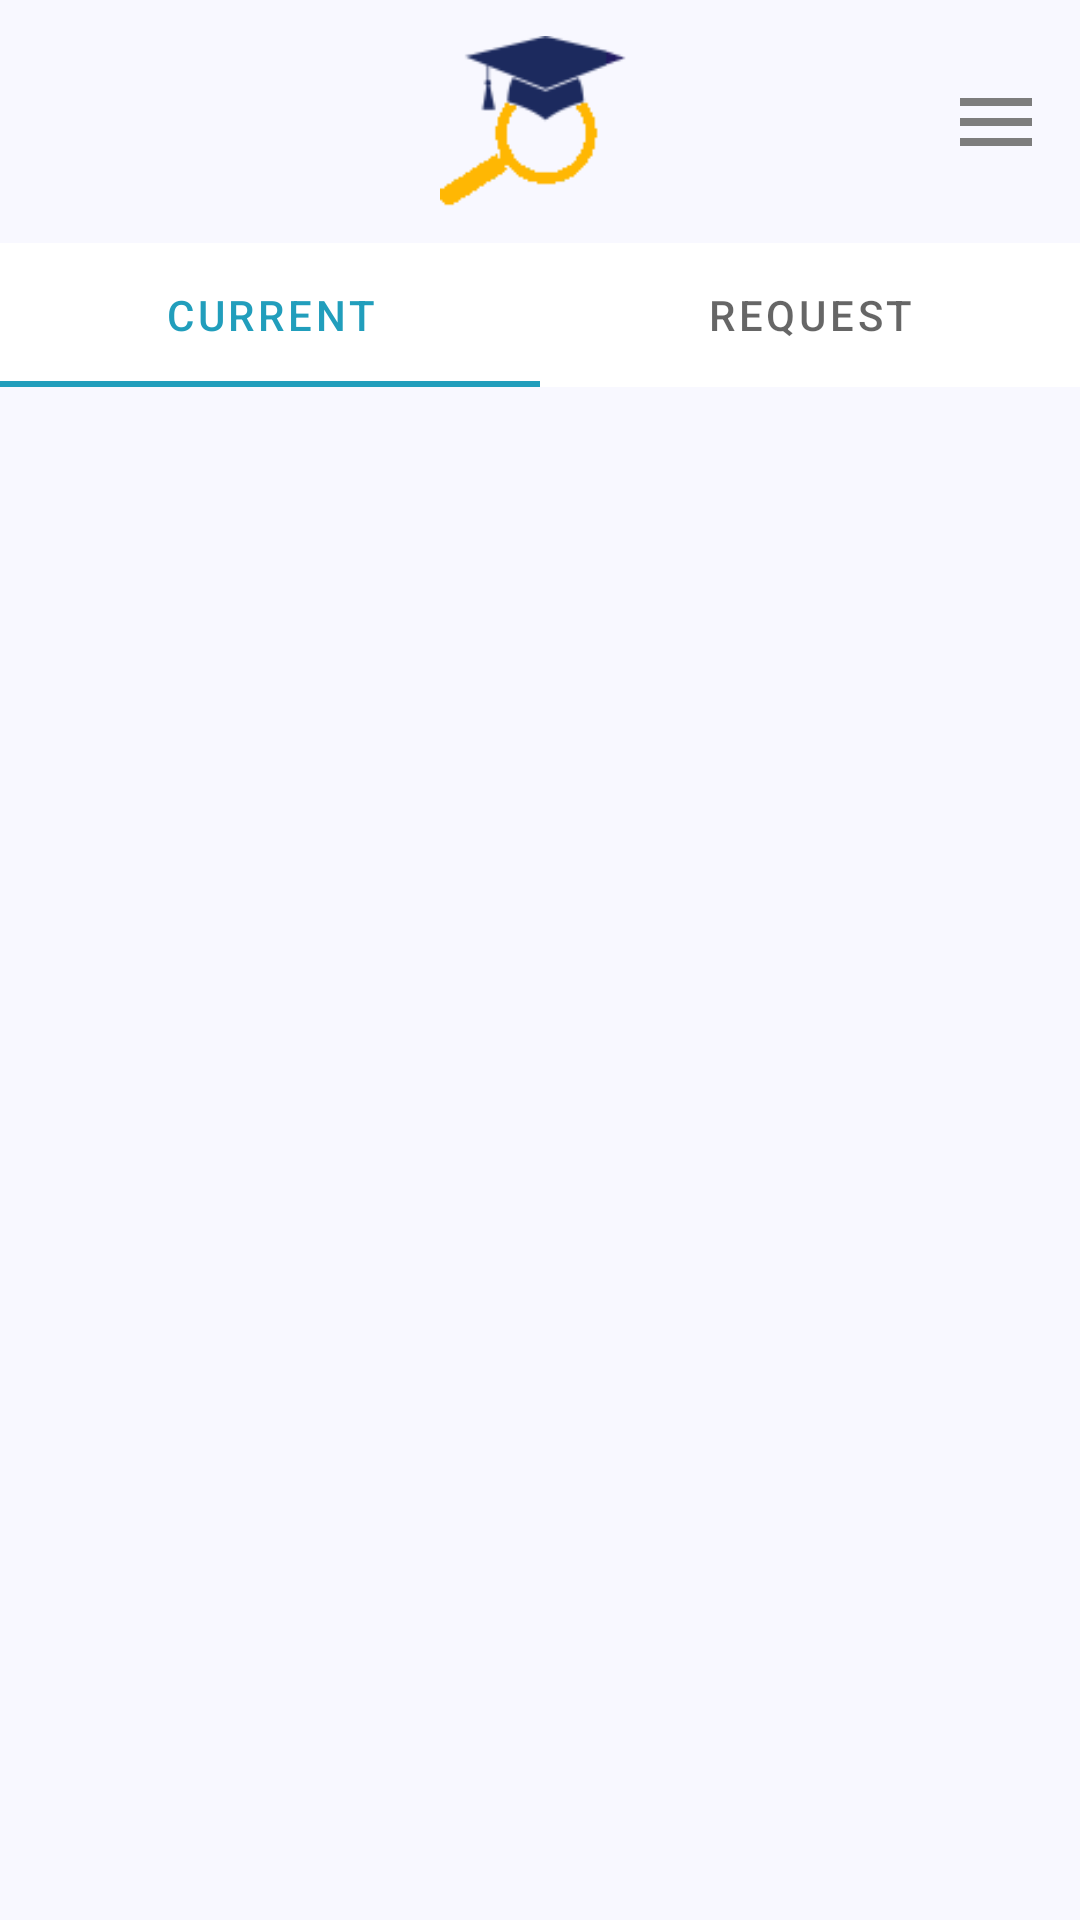

Icon click points for this 1080w x 1920h phone screenshot, format (x=x, y=y):
menu: (x=996, y=122)
tutor: (x=532, y=121)
